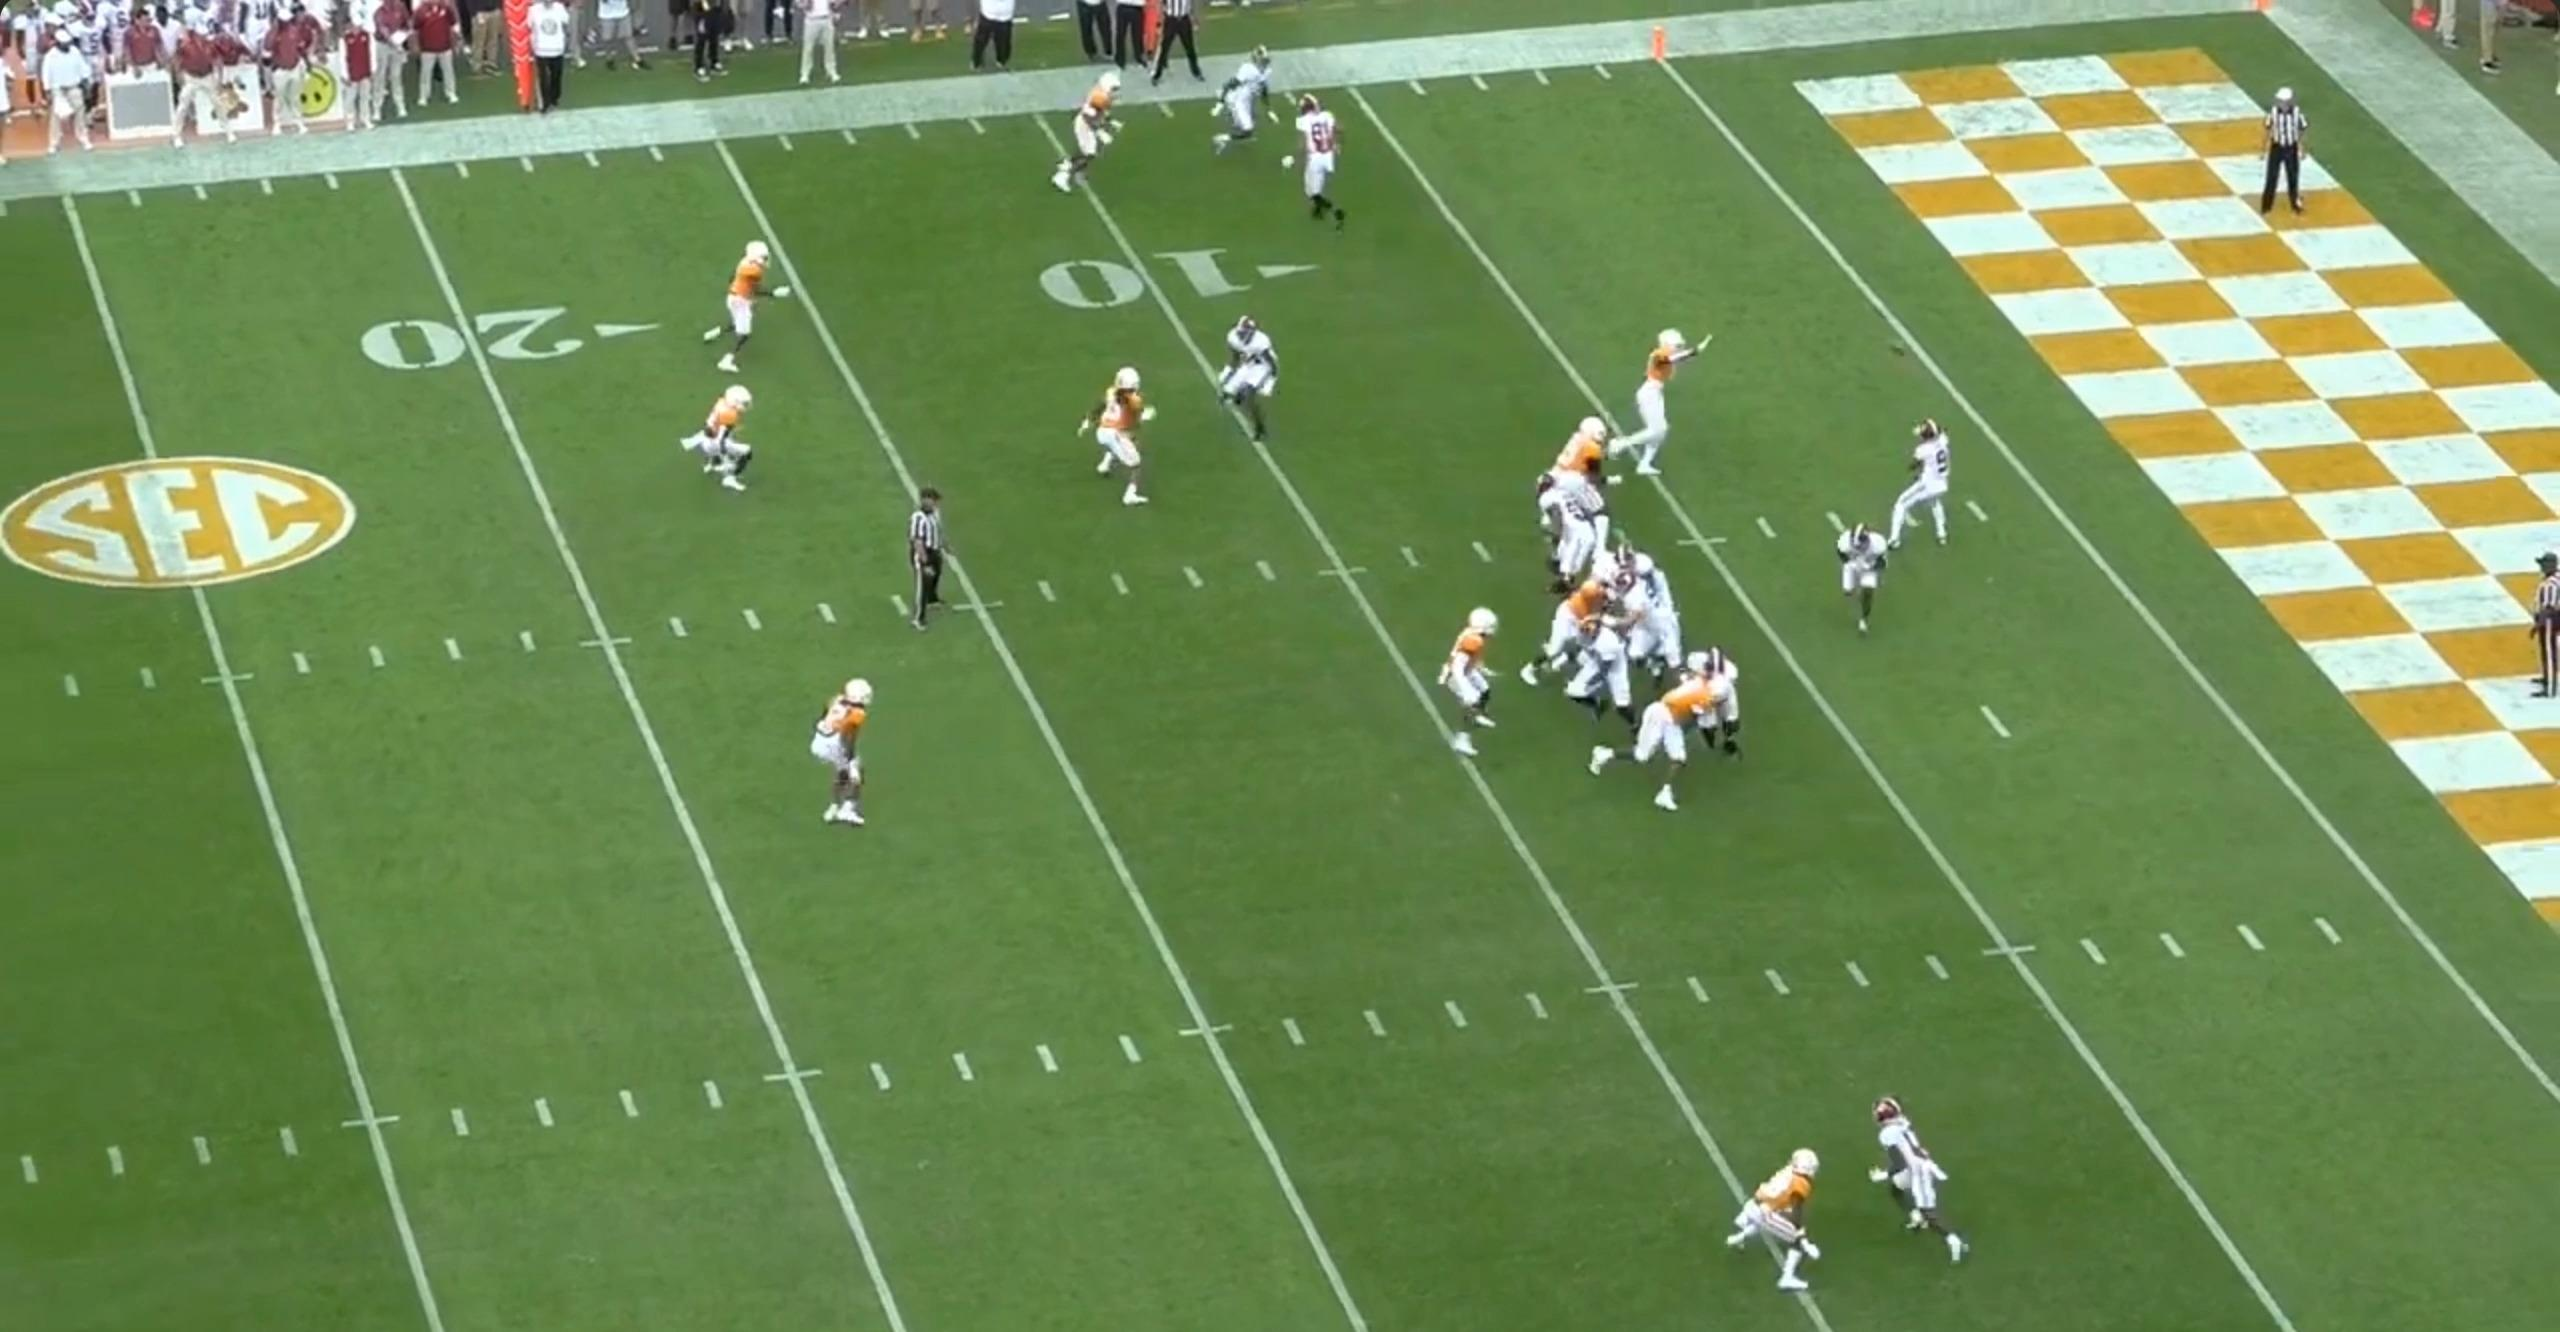player: (1872, 1098, 1984, 1274), (1582, 672, 1712, 815), (1730, 1140, 1836, 1296), (1516, 558, 1630, 692), (1615, 326, 1709, 482), (1071, 363, 1159, 516), (705, 235, 787, 378), (1428, 603, 1503, 759), (1891, 414, 1970, 554), (817, 677, 885, 838), (1521, 472, 1606, 599), (1211, 312, 1287, 454), (1057, 70, 1137, 202), (1207, 44, 1287, 170), (1568, 620, 1648, 743), (674, 376, 753, 496), (1542, 416, 1630, 523), (1606, 570, 1686, 685), (1293, 88, 1355, 236), (1680, 643, 1755, 765), (1818, 520, 1885, 647), (1615, 543, 1675, 609)
ref: (901, 488, 960, 643), (2259, 85, 2317, 221), (1146, 0, 1214, 93), (2532, 551, 2560, 704)
